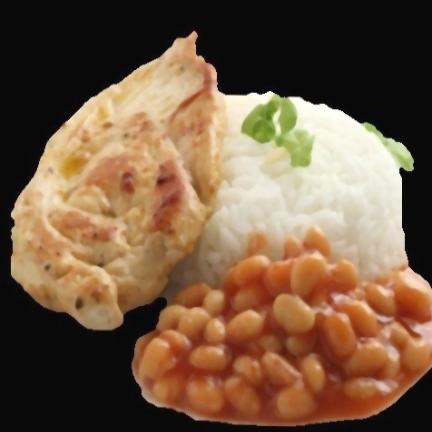beans: (133, 231, 432, 424)
chicken: (12, 33, 226, 329)
rice: (170, 93, 405, 288)
